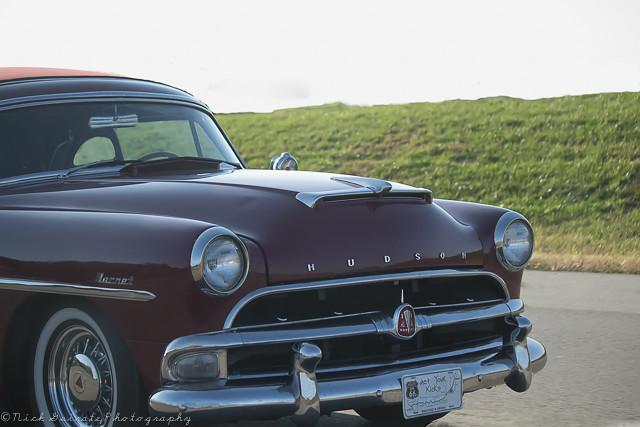car: (1, 67, 548, 427)
